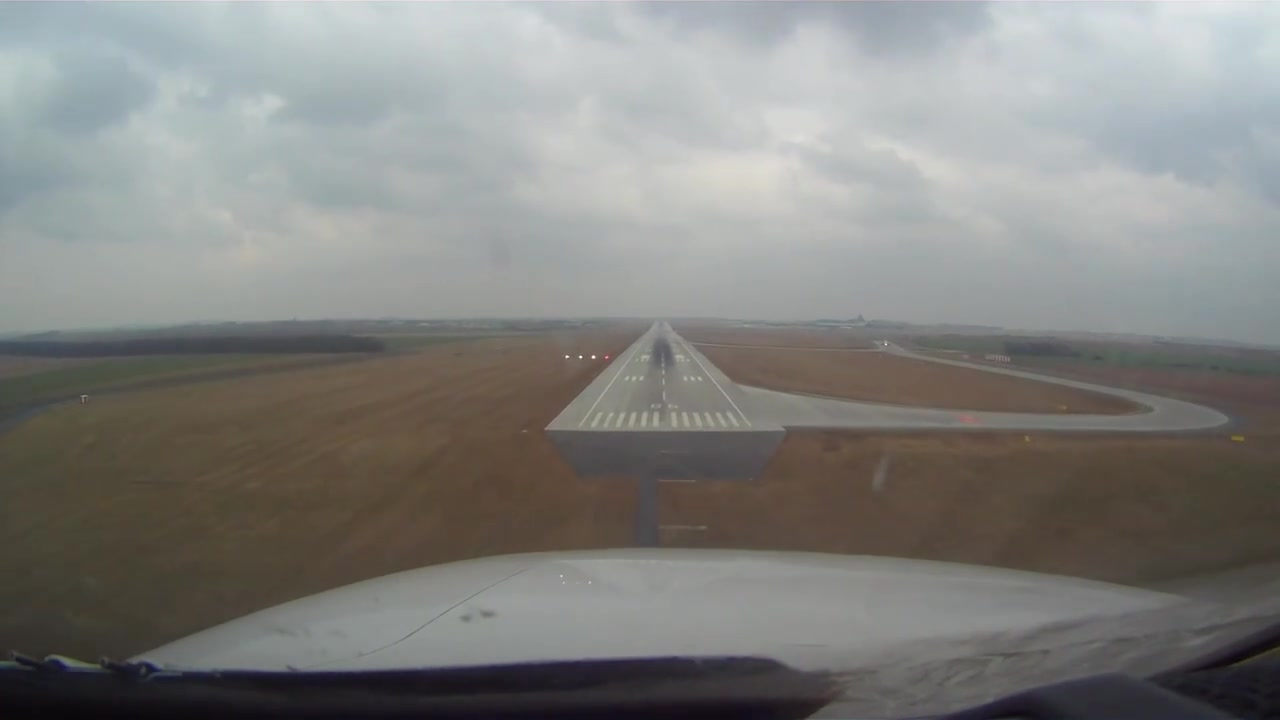entrance: (590, 412, 743, 426)
runway: (545, 320, 785, 434)
